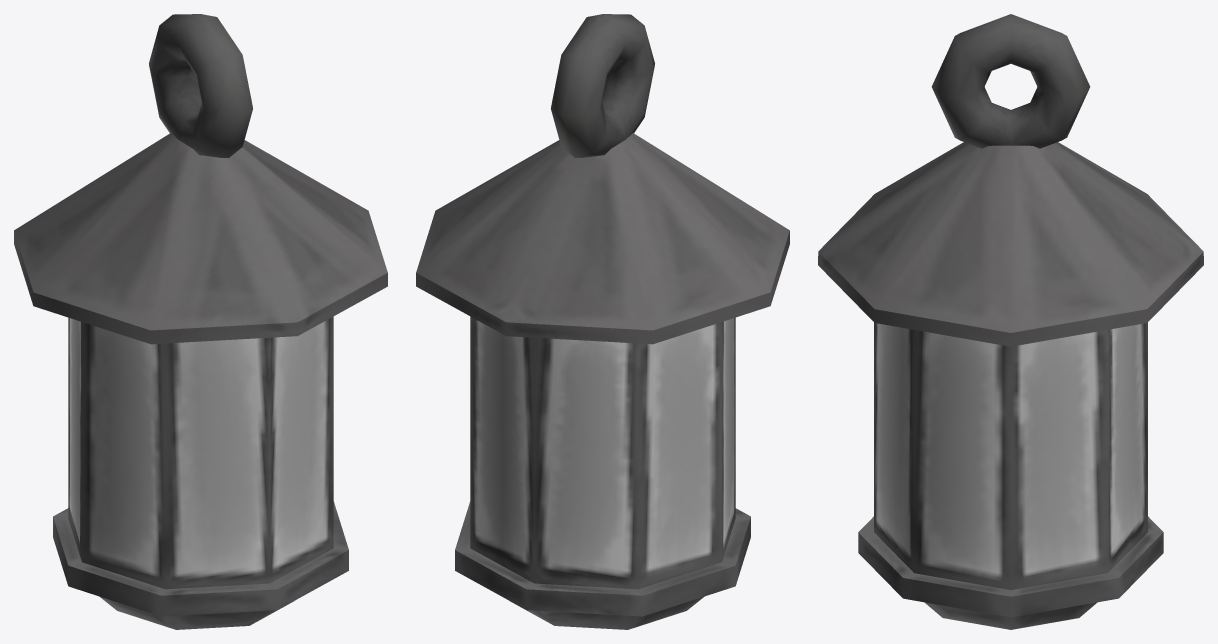
The model's file is Lantern_Geo.fbx.
The picture shows the model from 3 angles, left to right: view 1: azimuth 30°, elevation 25°; view 2: azimuth 150°, elevation 25°; view 3: azimuth 270°, elevation 25°; orthographic projection.
Parts seen in each view (by area): view 1: Lantern_Geo; view 2: Lantern_Geo; view 3: Lantern_Geo.
Part boxes in pixels (box(x1,y1,x2,y2)): Lantern_Geo: box(14, 14, 387, 629); Lantern_Geo: box(416, 14, 789, 629); Lantern_Geo: box(818, 14, 1203, 629).
Bounding box in the file's own units: 20.95 × 34.41 × 20.95.
